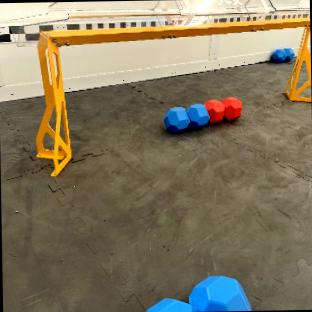V5_BLUE: (147, 275, 250, 312), (164, 103, 208, 130), (271, 49, 288, 62), (284, 48, 294, 58)
V5_RED: (204, 96, 241, 123)
